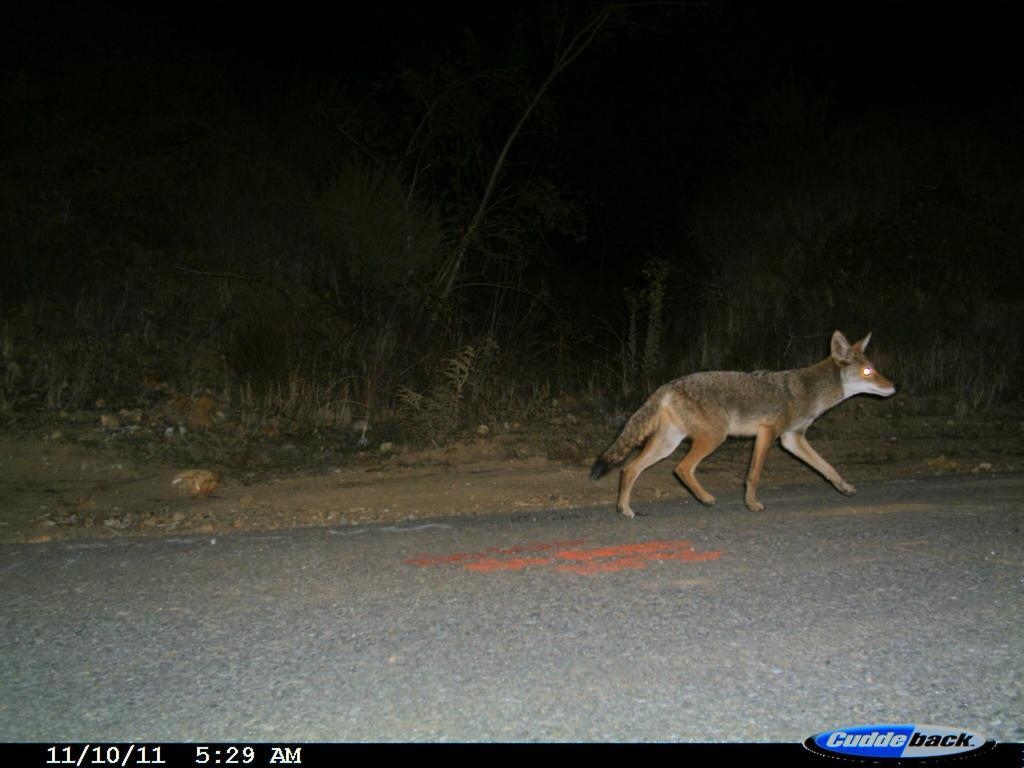coyote: (588, 328, 902, 519)
